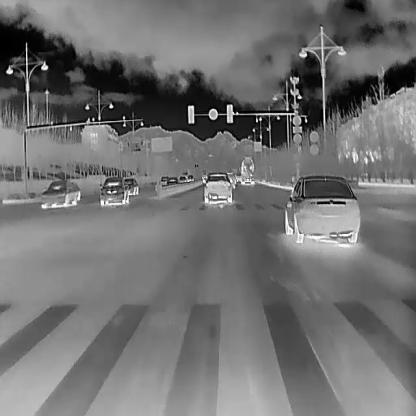car: (284, 173, 360, 244), (40, 177, 81, 208), (201, 171, 233, 203), (99, 176, 130, 206), (123, 177, 138, 195), (226, 171, 237, 186), (167, 176, 177, 186), (160, 173, 168, 185), (177, 174, 187, 182), (186, 172, 193, 182)
truck: (238, 156, 254, 184)
